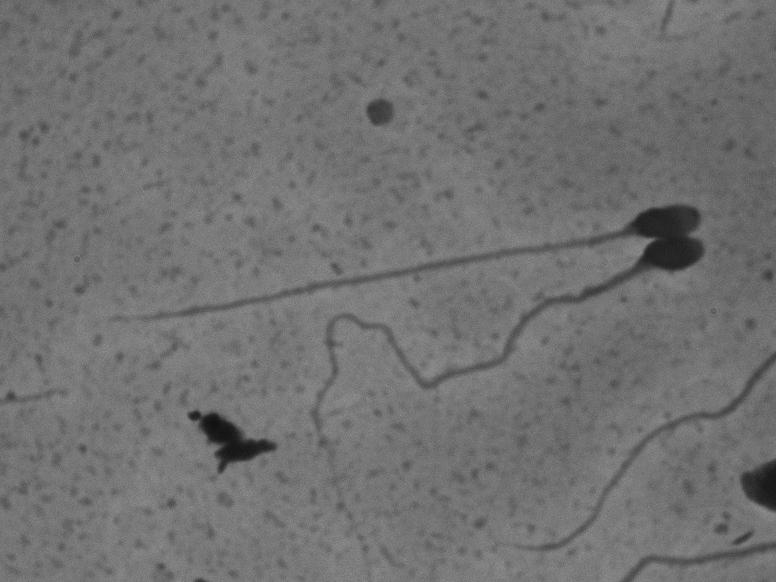Abnormal: (296, 232, 711, 498), (115, 192, 712, 335)
